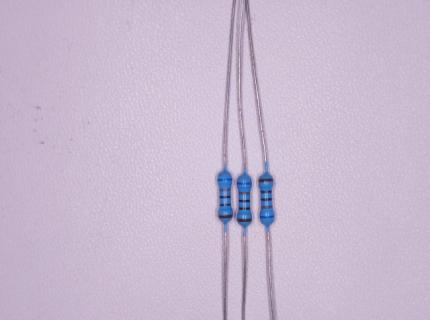Black band: (239, 199, 251, 203), (261, 190, 272, 194), (220, 195, 231, 199), (238, 207, 251, 210), (261, 198, 273, 201), (220, 203, 231, 206)
Blue band: (259, 215, 275, 218), (217, 178, 232, 181), (237, 182, 252, 185)
Brown band: (217, 214, 233, 218), (237, 218, 252, 222), (259, 178, 274, 182)
Grey band: (219, 187, 231, 192), (239, 191, 251, 195), (261, 205, 273, 209)
